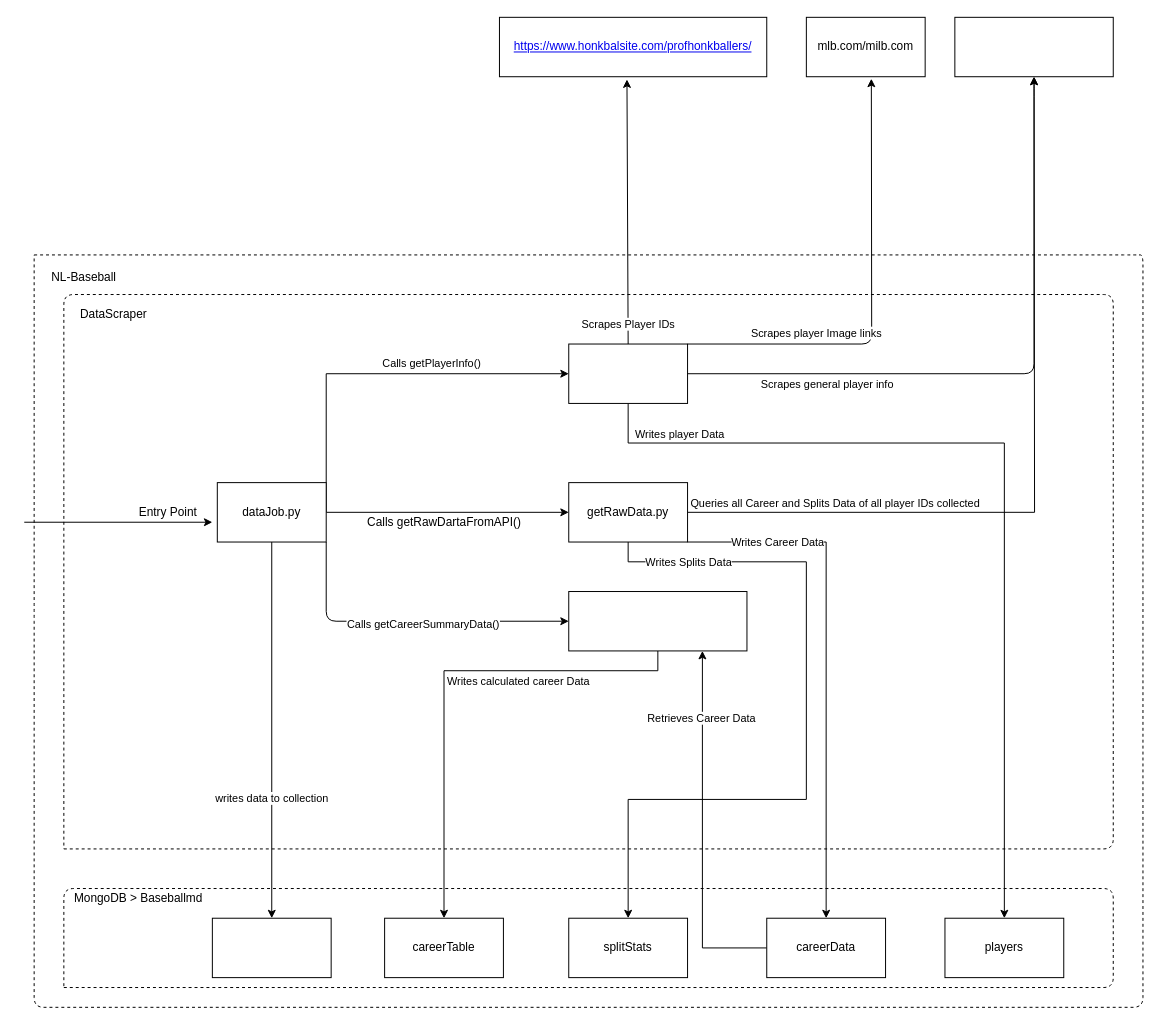
Image size: 1161x1026. Some labels were removed from this diagram. The shapes that lost their labels are listed below. From the top down, each one's centre as x and y in pixels, then its label:
the point at 1033,46: https://statsapi.mlb.com/
the point at 628,373: playerScraping.py
the point at 657,621: createCareerSummaryData.py
the point at 271,947: metaData
